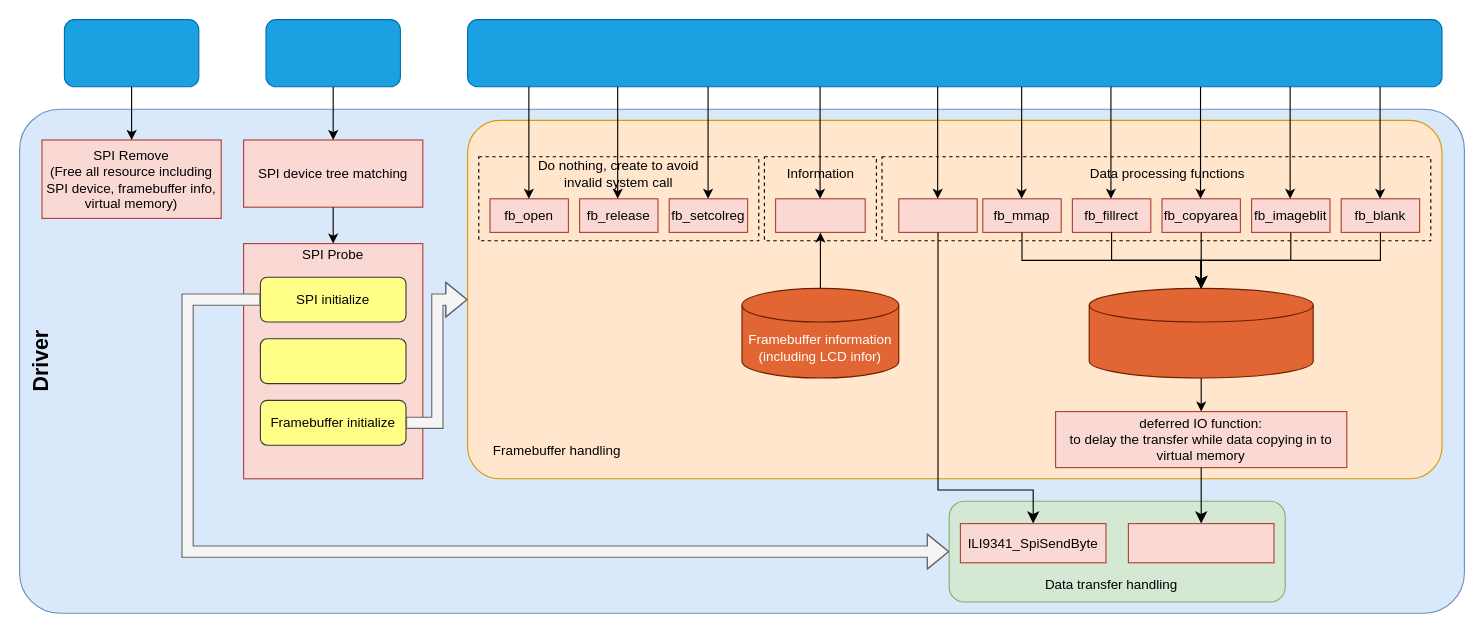
Image size: 1484x633. Some labels were removed from this diagram. Here are the shapes that lost their labels. From the top down, the box of each, then its label:
(63, 18, 199, 87): KERNEL REMOVE DRIVER
(265, 18, 400, 87): KERNEL LOAD DRIVER
(466, 18, 1442, 87): KERNEL SYSTEM CALL
(774, 198, 865, 232): fb_check_var
(898, 198, 977, 232): fb_write
(1088, 287, 1313, 378): Virtual memory to store the frame data of LCD
(259, 338, 406, 384): LCD initialize
(1127, 522, 1274, 563): ILI9341_SpiSendArray
